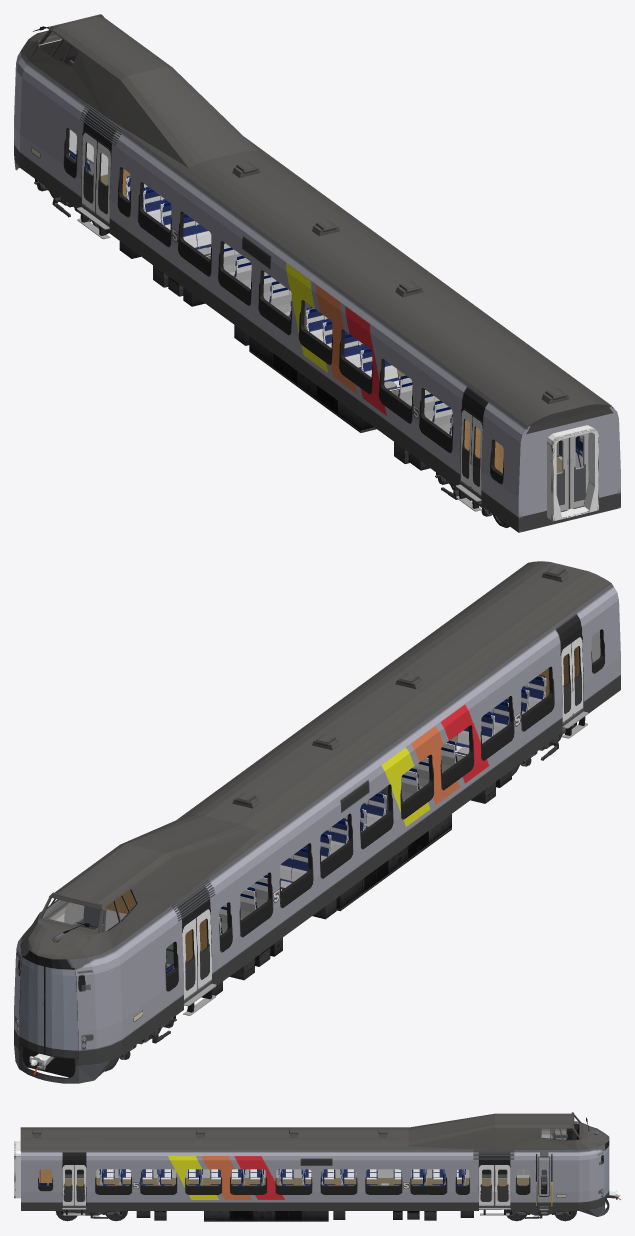
The model's file is mrwicmfront_back.obj.
The picture shows the model from 3 angles, top to bottom: view 1: azimuth 30°, elevation 25°; view 2: azimuth 150°, elevation 25°; view 3: azimuth 270°, elevation 25°; orthographic projection. The views are drawn at different scales.
Visible parts, largest first — view 1: side, jibung, chair_second, backout, habu, mak, jibungparts, backdoor, door_RB, door_RF, sadari, DT71 (+1 smaller); view 2: side, jibung, chair_second, front, side_front, habu, jibungparts, door_RF, door_RB, frontparts, sadari, backin (+2 smaller); view 3: side, jibung, chair_second, habu, badak, side_front, DT71, door_LB, door_LF, inside, jibungparts, sadari (+6 smaller).
Boxes of the visible parts, box(x1,y1,x2,y2) form: side: box(20, 61, 620, 532); jibung: box(23, 16, 611, 425); chair_second: box(125, 176, 452, 435); backout: box(522, 404, 617, 531); habu: box(109, 229, 429, 470); mak: box(547, 425, 598, 521); jibungparts: box(80, 104, 569, 404); backdoor: box(556, 433, 588, 510); door_RB: box(81, 132, 472, 487); door_RF: box(95, 141, 482, 495); sadari: box(77, 131, 576, 511); DT71: box(34, 179, 509, 527); side: box(45, 583, 620, 1054); jibung: box(23, 561, 611, 959); chair_second: box(219, 675, 546, 935); front: box(19, 949, 78, 1065); side_front: box(14, 928, 122, 1065); habu: box(22, 770, 511, 1077); jibungparts: box(171, 566, 569, 921); door_RF: box(196, 637, 583, 989); door_RB: box(182, 643, 572, 999); frontparts: box(14, 922, 121, 1083); sadari: box(182, 635, 588, 1015); backin: box(64, 630, 600, 931); side: box(21, 1128, 579, 1210); jibung: box(20, 1113, 609, 1149); chair_second: box(99, 1169, 465, 1185); habu: box(136, 1209, 501, 1221); badak: box(65, 1178, 529, 1186); side_front: box(579, 1144, 604, 1210); DT71: box(55, 1208, 576, 1221); door_LB: box(74, 1164, 510, 1205); door_LF: box(62, 1164, 494, 1205); inside: box(96, 1134, 566, 1177); jibungparts: box(32, 1129, 514, 1159); sadari: box(62, 1164, 510, 1215).
Size of the model in its own units: 3.17 by 4.52 by 26.18.
